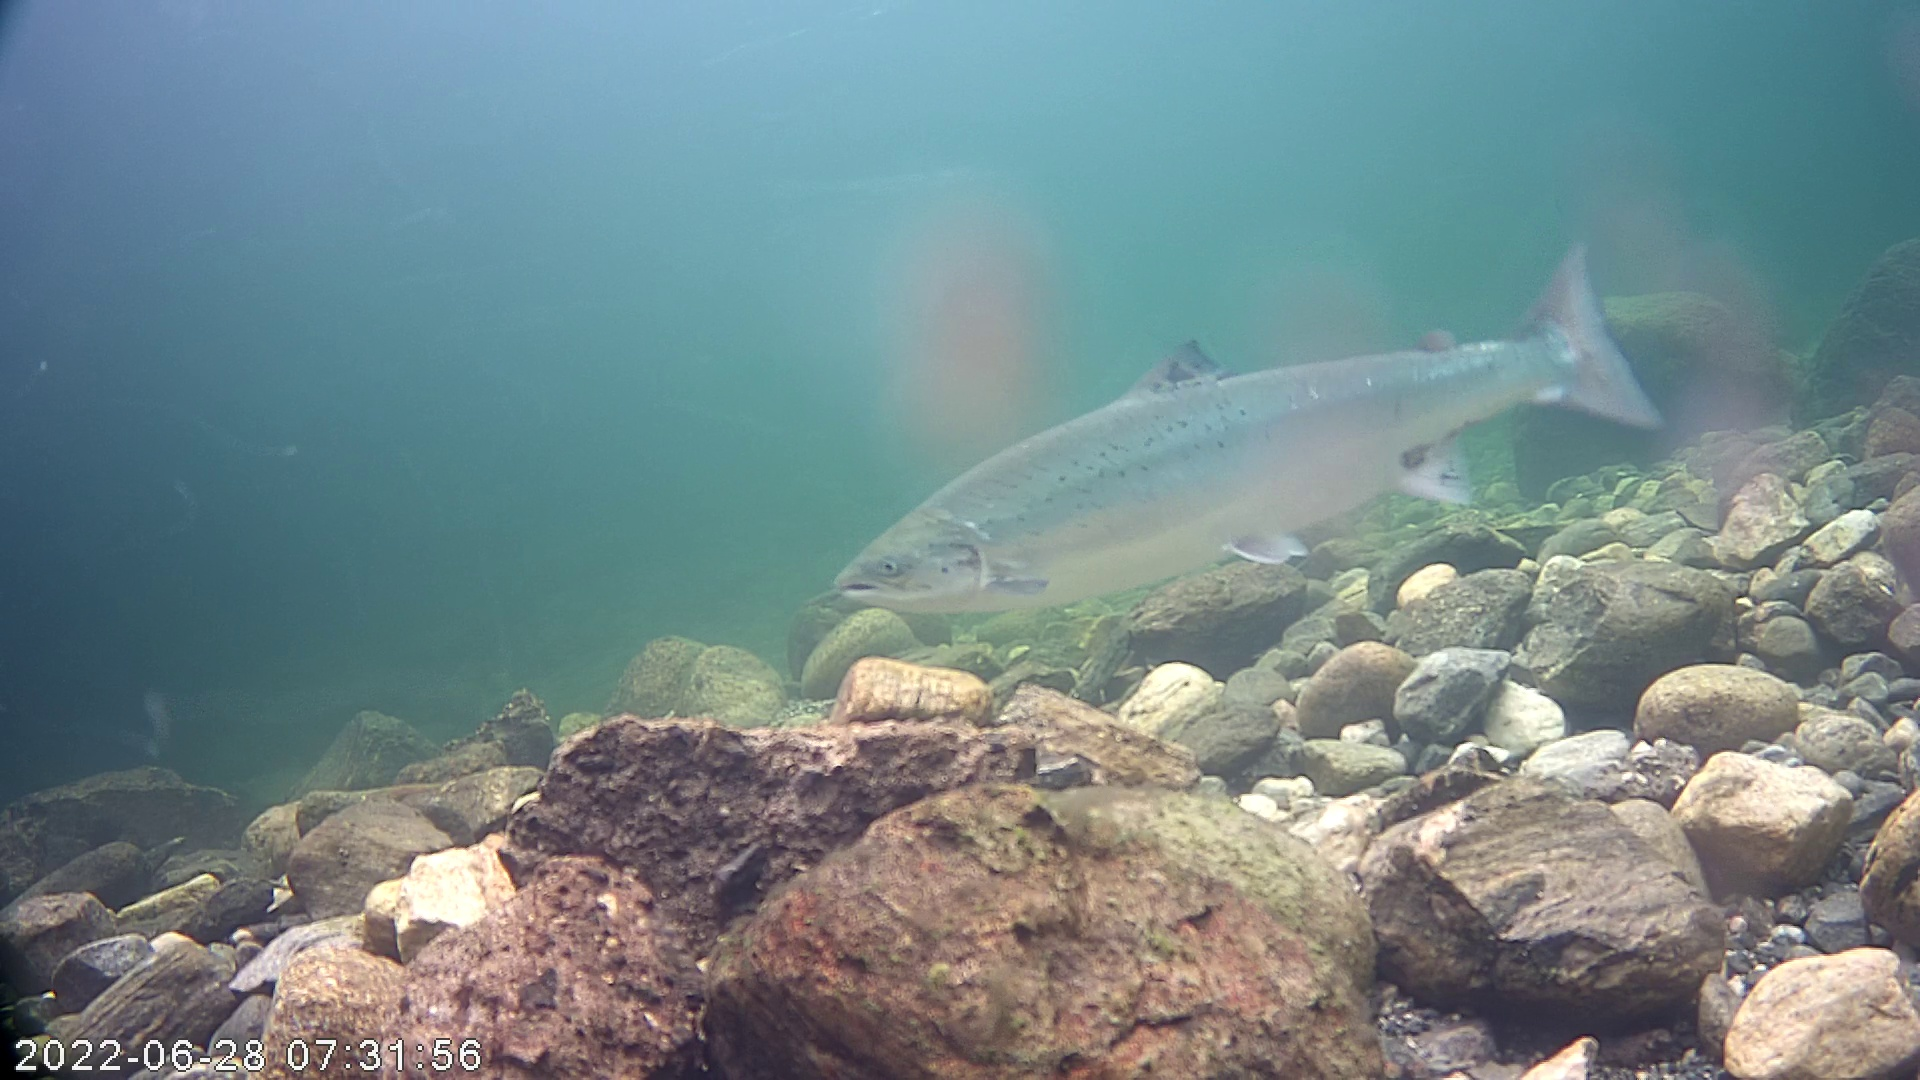salmon: (823, 200, 1688, 651)
